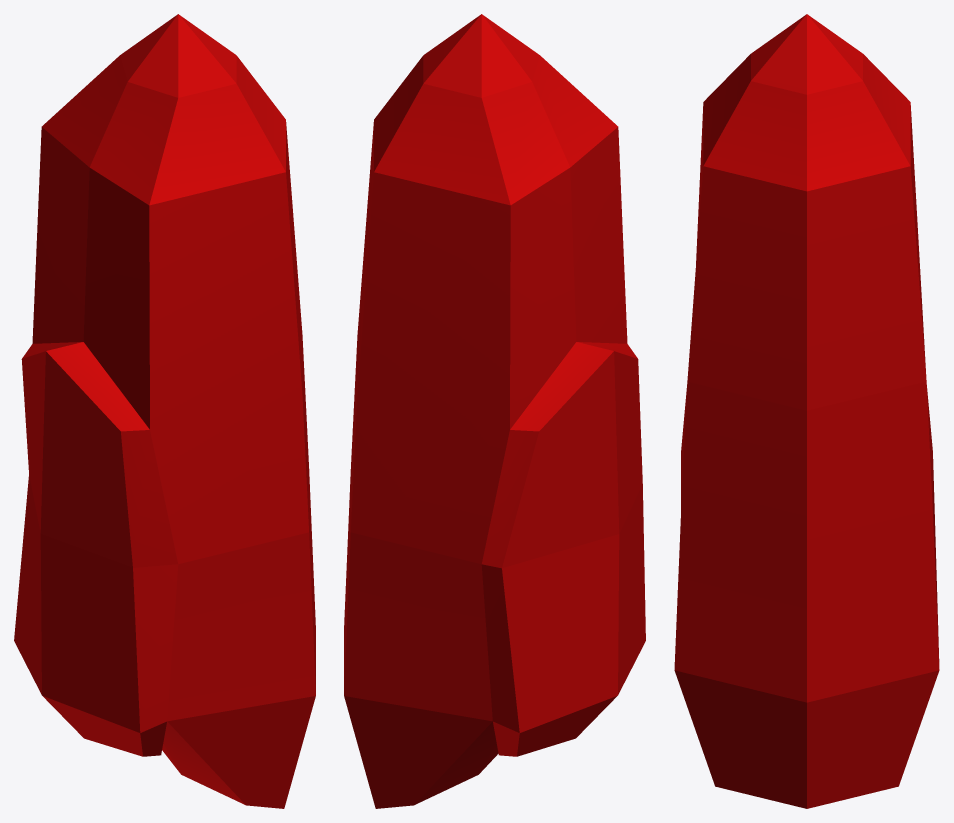
The model's file is geology-crystals-coloredcrystal_v9.fbx.
The picture shows the model from 3 angles, left to right: view 1: azimuth 30°, elevation 25°; view 2: azimuth 150°, elevation 25°; view 3: azimuth 270°, elevation 25°; orthographic projection. The views are drawn at different scales.
Visible parts, largest first — view 1: ColoredCrystal_v9; view 2: ColoredCrystal_v9; view 3: ColoredCrystal_v9.
Part boxes in pixels (x1=…): ColoredCrystal_v9: x1=14, y1=14, x2=315, y2=808; ColoredCrystal_v9: x1=344, y1=14, x2=645, y2=808; ColoredCrystal_v9: x1=674, y1=14, x2=939, y2=808.
Size of the model in its own units: 2.21 by 5.95 by 1.92.
